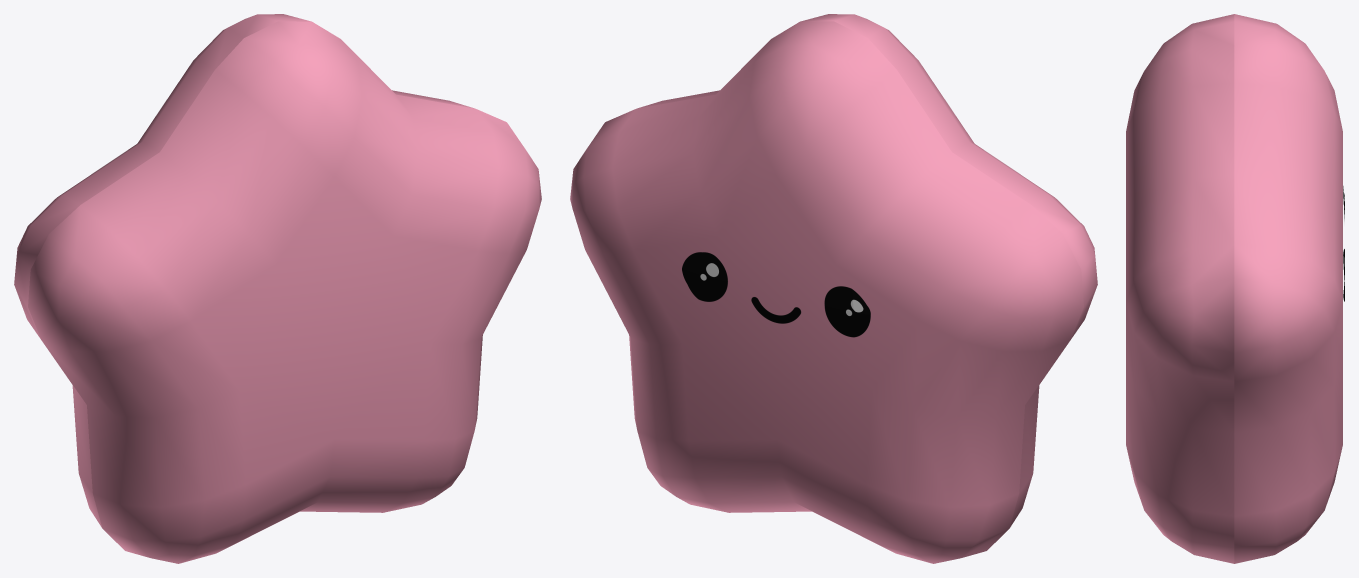
File: proyecto4.glb
3 views of the same model, side by side, from view 1: azimuth 30°, elevation 25°; view 2: azimuth 150°, elevation 25°; view 3: azimuth 270°, elevation 25° (orthographic). The views are drawn at different scales.
Parts seen in each view (by area): view 1: Circle; view 2: Circle, Simple_Face_001; view 3: Circle.
Part boxes in pixels (x1,y1,x2,y2): Circle: (14, 14, 541, 563); Circle: (570, 14, 1097, 563); Simple_Face_001: (682, 252, 870, 337); Circle: (1126, 14, 1342, 563).
Bounding box in the file's own units: 2.61 × 2.53 × 1.03.
2 materials, 1 textured.
